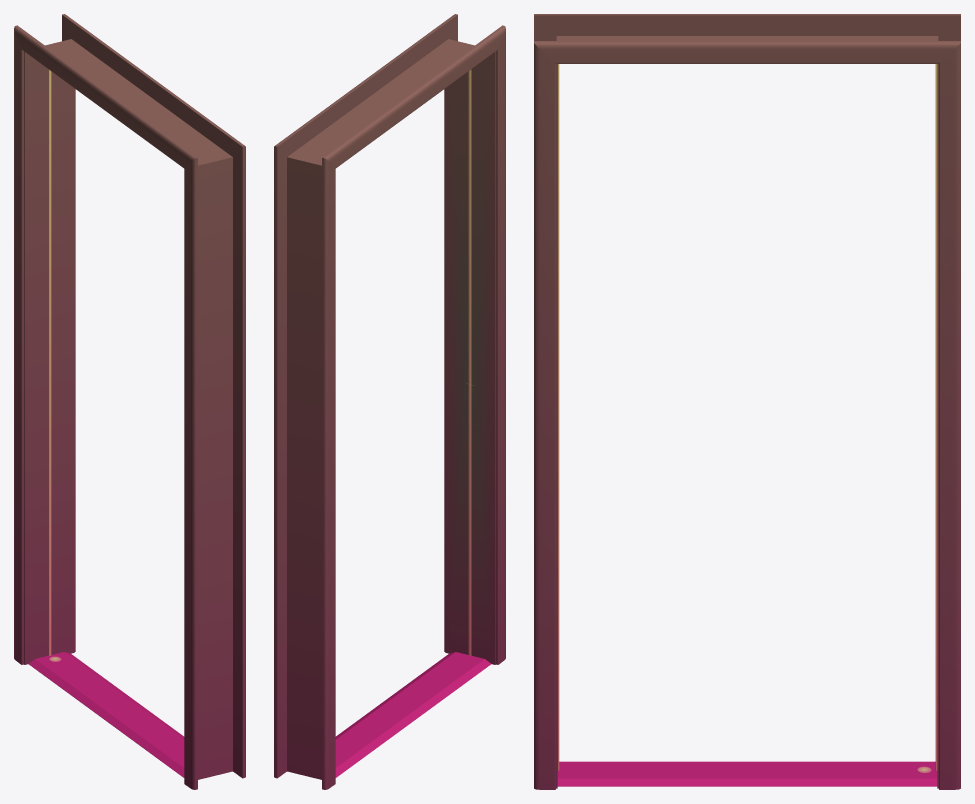
Rendered from Kit_DoorFrame_Wood_DA.fbx.
3 renders of one model, left to right at view 1: azimuth 30°, elevation 25°; view 2: azimuth 150°, elevation 25°; view 3: azimuth 270°, elevation 25°, orthographic. The views are drawn at different scales.
Parts seen in each view (by area): view 1: Kit_DoorFrame_Wood_DA_LOD0; view 2: Kit_DoorFrame_Wood_DA_LOD0; view 3: Kit_DoorFrame_Wood_DA_LOD0.
Boxes of the visible parts, x1,y1,x2,y2 form: Kit_DoorFrame_Wood_DA_LOD0: (14,14,245,789); Kit_DoorFrame_Wood_DA_LOD0: (274,14,505,789); Kit_DoorFrame_Wood_DA_LOD0: (534,14,960,789).
Size of what is drawn, in the model's own units: 0.195 by 2.16 by 1.12.
